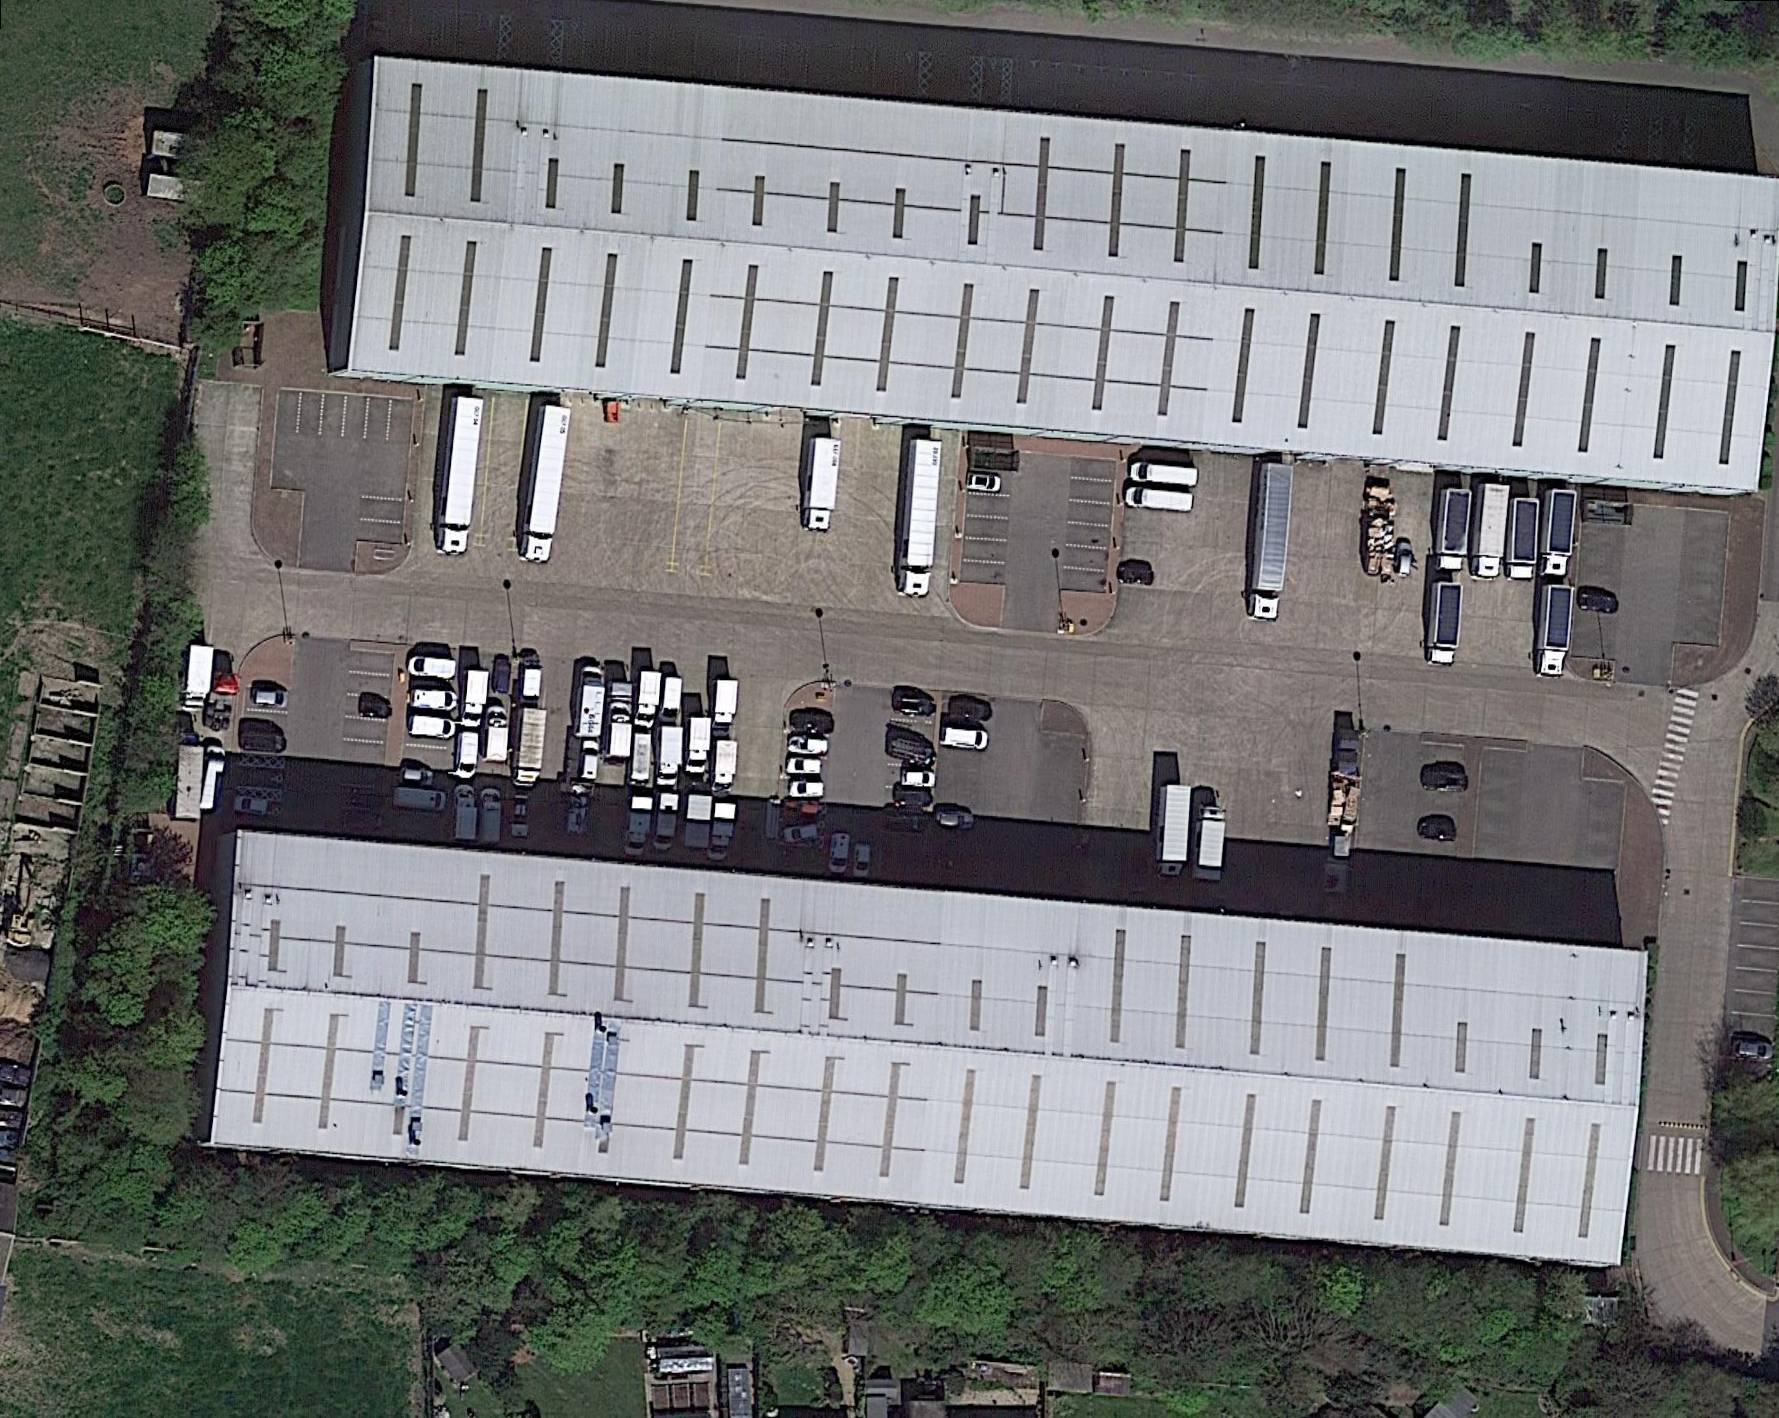large vehicle: (518, 402, 574, 567), (432, 395, 486, 556), (895, 437, 946, 600), (1245, 462, 1294, 624), (798, 436, 845, 535), (1469, 480, 1511, 585), (1535, 585, 1577, 682), (1154, 781, 1195, 881), (1537, 488, 1578, 582), (1425, 580, 1465, 668), (1433, 488, 1474, 574), (169, 728, 205, 822), (511, 708, 550, 793), (1503, 496, 1540, 583), (1189, 803, 1228, 884), (571, 663, 607, 739), (181, 644, 217, 715), (202, 670, 242, 734), (602, 699, 636, 764), (654, 723, 686, 790), (651, 791, 683, 857), (623, 794, 655, 859), (706, 800, 739, 862), (1128, 462, 1199, 491), (633, 666, 664, 732), (1125, 486, 1195, 515), (710, 739, 741, 802), (451, 781, 482, 844), (461, 668, 492, 728), (712, 679, 741, 739), (482, 705, 512, 763), (476, 786, 503, 846), (686, 716, 712, 780), (628, 732, 655, 790), (516, 650, 544, 708), (392, 789, 447, 813)
small vehicle: (406, 716, 457, 742), (940, 726, 989, 752), (408, 687, 460, 712), (457, 731, 482, 781), (409, 655, 457, 682), (660, 676, 684, 723), (579, 738, 602, 784), (827, 832, 852, 875), (934, 809, 975, 832), (782, 820, 820, 845), (247, 687, 289, 709), (787, 736, 829, 755), (903, 768, 939, 789), (968, 473, 1002, 493), (785, 758, 822, 776), (790, 781, 826, 799), (1397, 541, 1413, 579)
